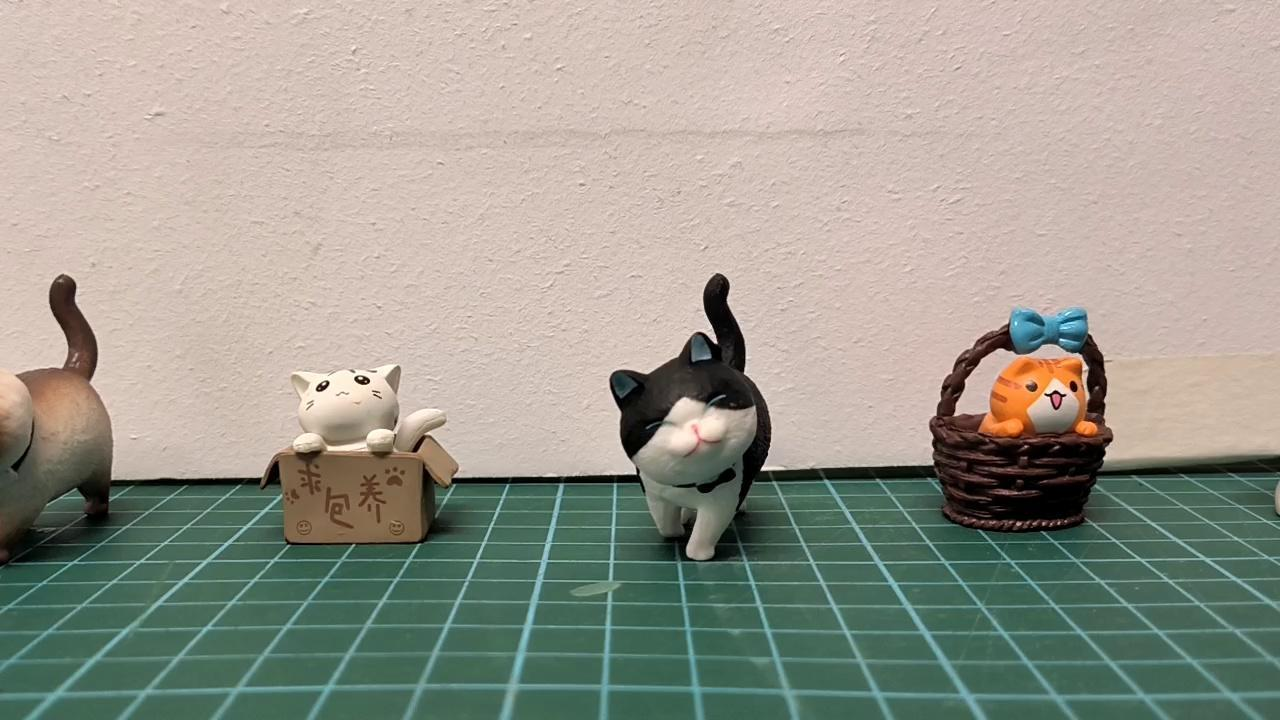pet: (611, 273, 773, 563), (0, 271, 121, 554), (283, 361, 449, 455), (983, 351, 1100, 434)
